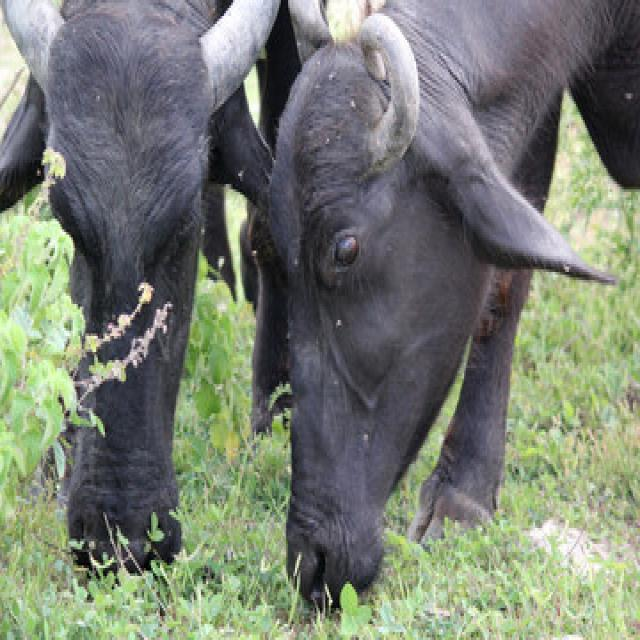Buffalo: (263, 0, 640, 597), (0, 2, 271, 572)
